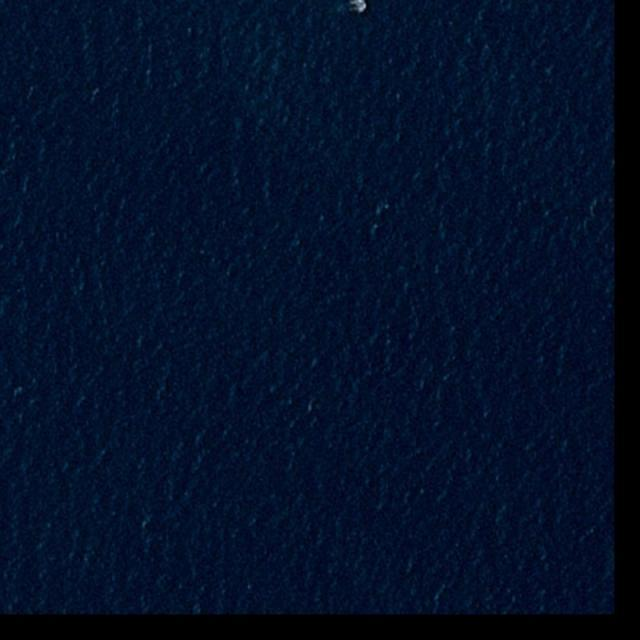ship: (355, 0, 366, 10)
